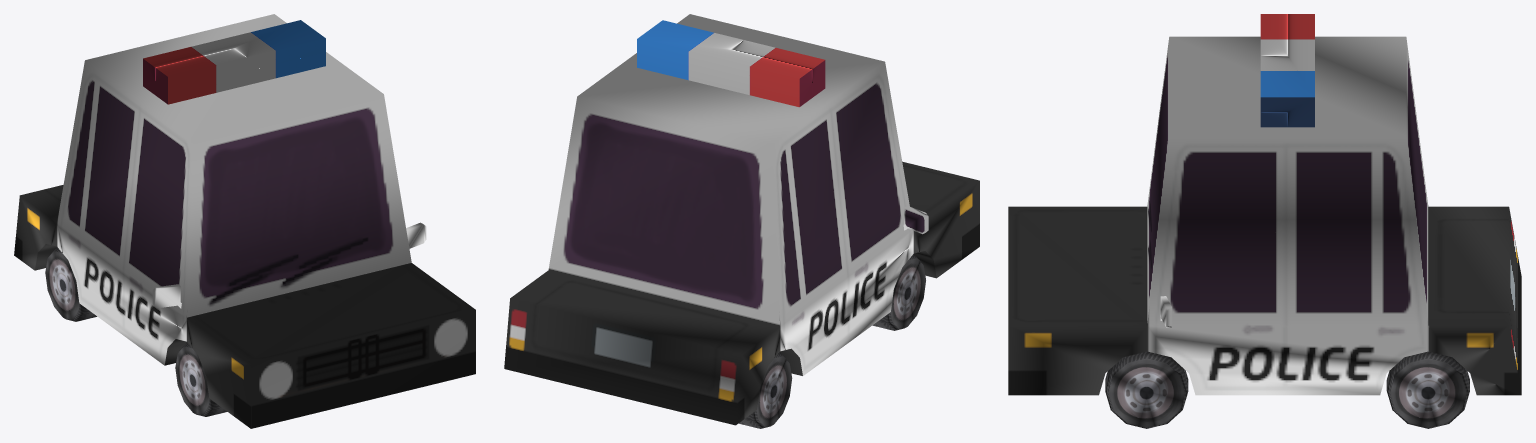
Rendered from police-car.gltf.
3 views of the same model, side by side, from view 1: azimuth 30°, elevation 25°; view 2: azimuth 150°, elevation 25°; view 3: azimuth 270°, elevation 25° (orthographic). The views are drawn at different scales.
Visible parts, largest first — view 1: Low_Poly_Vehicles_carPolice; view 2: Low_Poly_Vehicles_carPolice; view 3: Low_Poly_Vehicles_carPolice.
Boxes of the visible parts, left/top/right/bottom form: Low_Poly_Vehicles_carPolice: left=14, top=14, right=475, bottom=428; Low_Poly_Vehicles_carPolice: left=504, top=14, right=979, bottom=428; Low_Poly_Vehicles_carPolice: left=1008, top=14, right=1521, bottom=428.
Bounding box in the file's own units: 24.16 × 24.94 × 36.51.
1 material, 1 textured.
